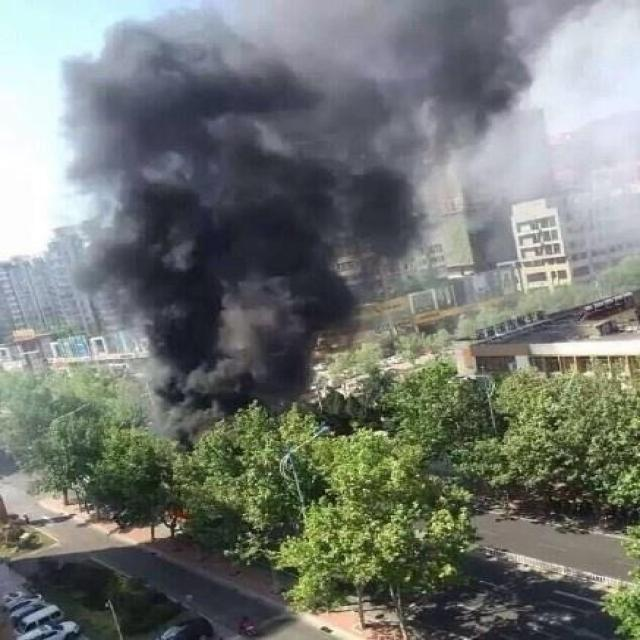Smoke: (57, 1, 596, 451)
